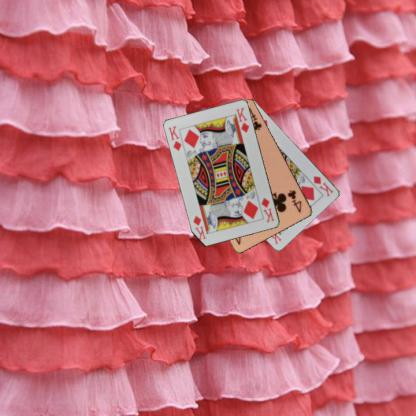4c: (285, 188, 303, 214)
Kd: (311, 173, 334, 198), (258, 195, 276, 224), (166, 123, 182, 152)
